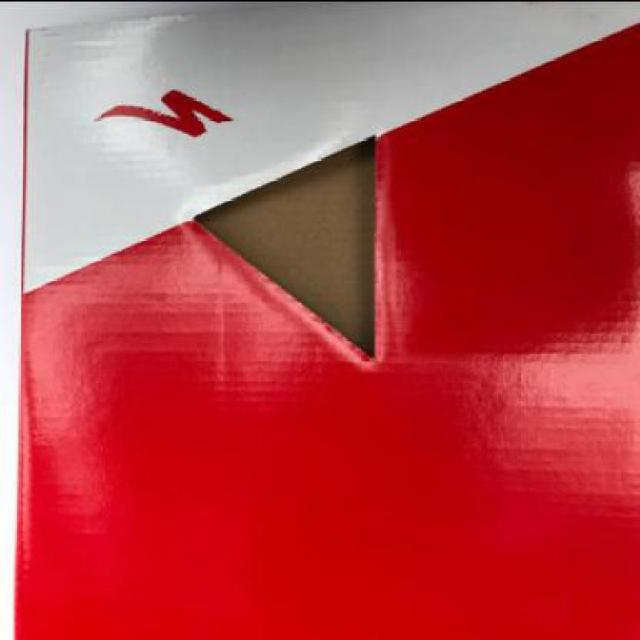cardboard: (11, 1, 640, 638)
